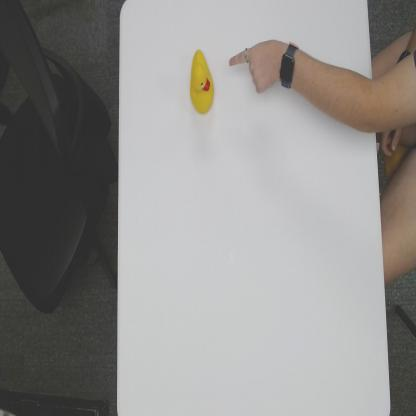Arm: (299, 50, 373, 134)
Duck: (189, 45, 216, 120)
Hand: (227, 39, 281, 96)
